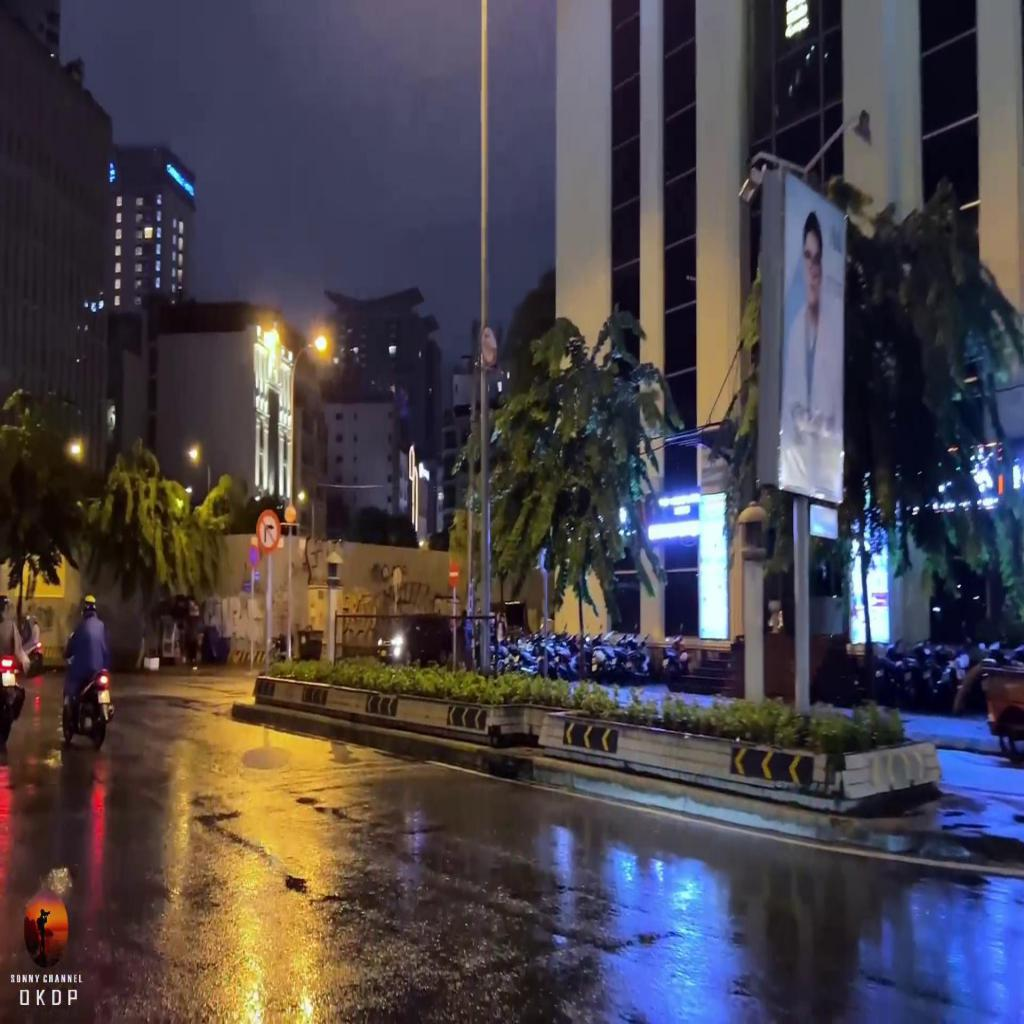cam_dung_xe_va_do_xe: (248, 542, 260, 567)
cam_re_phai: (256, 505, 282, 556)
cam_xe_di_nguoc_chieu: (447, 560, 462, 588)
